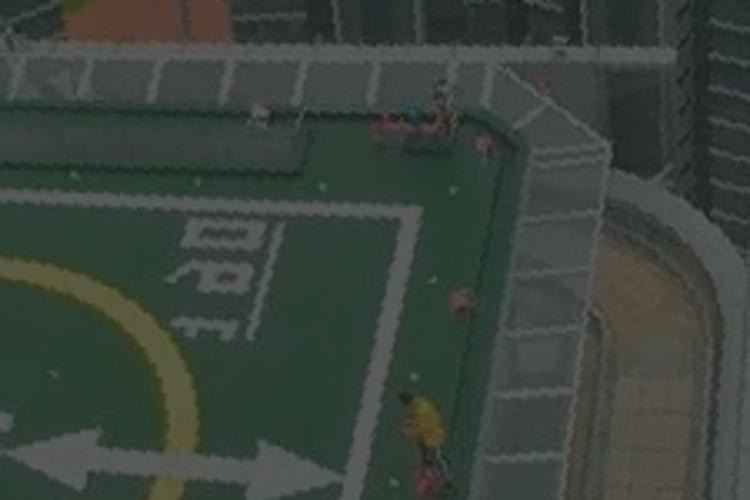Apron: (1, 249, 223, 499)
